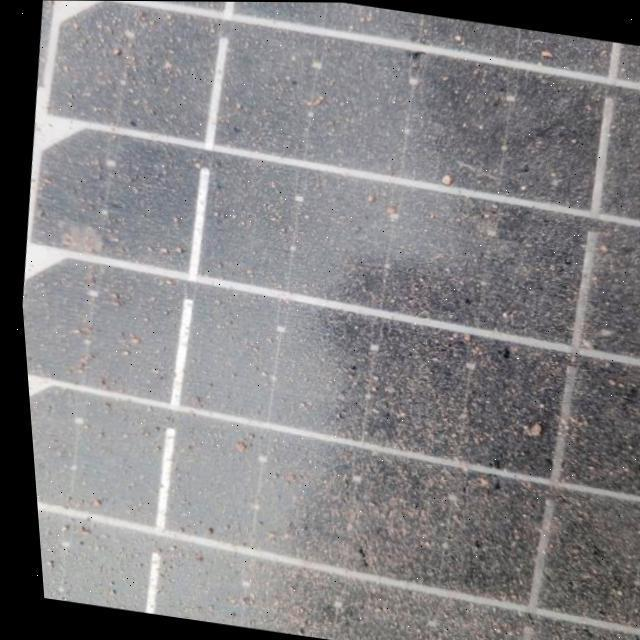Surface Contaminant: (17, 0, 640, 640)
